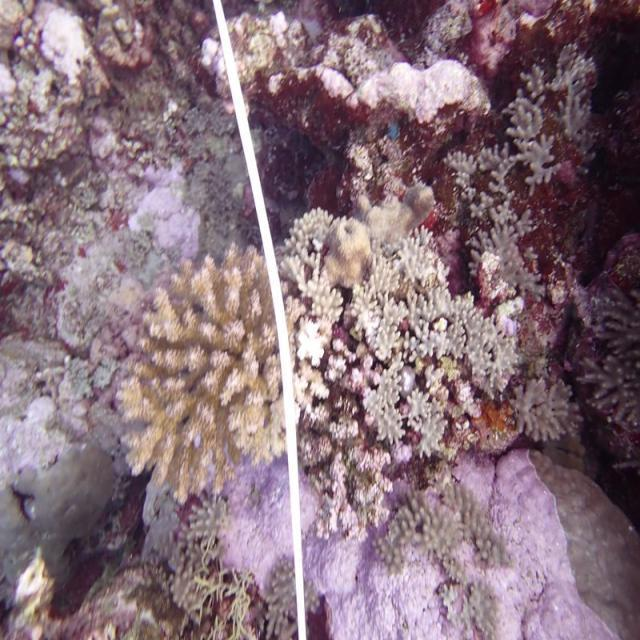Bleached Coral: (225, 451, 640, 637), (3, 11, 99, 109), (337, 62, 483, 125), (296, 320, 339, 422)
Healthy Coral: (147, 259, 261, 475)
